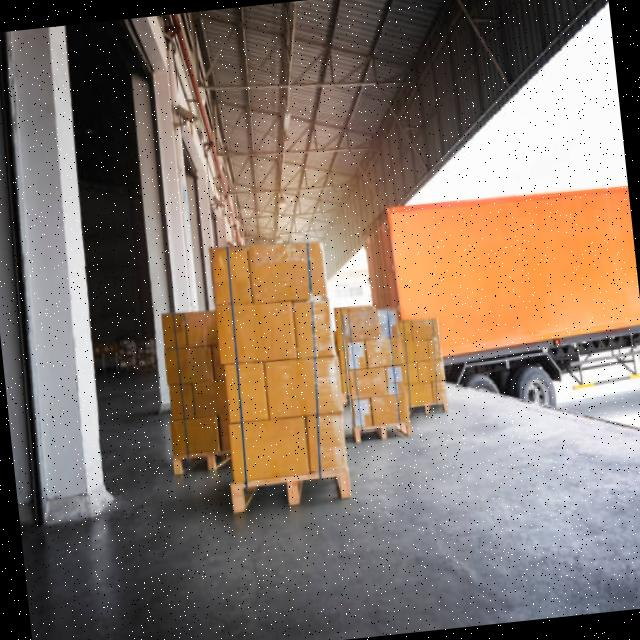Wooden-Pallets: (230, 459, 357, 520), (346, 415, 417, 450), (164, 445, 234, 480)
